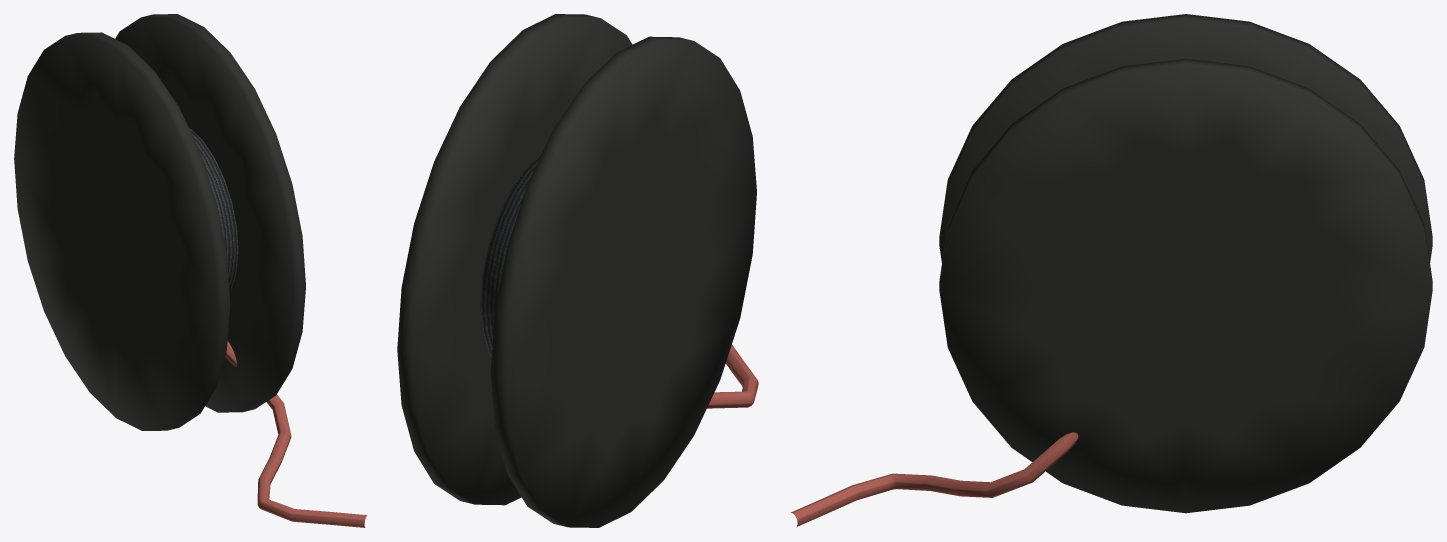
The model's file is CuonDayDien.glb.
3 views of the same model, side by side, from view 1: azimuth 30°, elevation 25°; view 2: azimuth 150°, elevation 25°; view 3: azimuth 270°, elevation 25° (orthographic). The views are drawn at different scales.
Parts seen in each view (by area): view 1: CuonDayDien; view 2: CuonDayDien; view 3: CuonDayDien.
Boxes of the visible parts, x1,y1,x2,y2 form: CuonDayDien: [14, 14, 366, 527]; CuonDayDien: [397, 14, 758, 527]; CuonDayDien: [790, 14, 1432, 527].
Size of the model in its own units: 0.1169 by 0.4148 by 0.5249.
3 materials, 1 textured.
